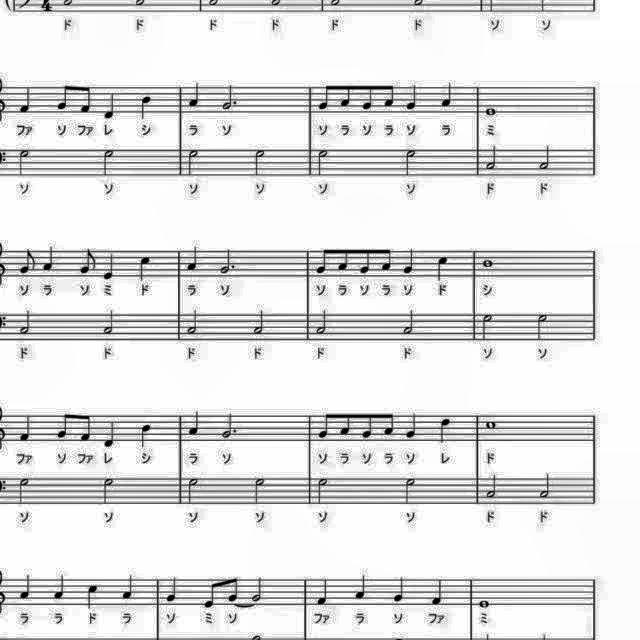Eighth-note: (77, 244, 99, 276), (317, 409, 335, 443), (18, 246, 38, 276), (358, 82, 376, 115), (55, 82, 73, 115), (358, 410, 376, 442), (55, 410, 73, 442), (316, 242, 334, 274), (223, 572, 240, 604), (338, 81, 356, 111), (338, 409, 356, 438), (356, 244, 372, 276), (78, 84, 94, 116), (318, 80, 334, 112), (78, 410, 94, 442), (203, 576, 219, 608), (336, 245, 352, 275), (381, 410, 397, 438), (382, 82, 398, 110), (380, 246, 394, 274)
Full-note: (484, 416, 501, 432), (480, 255, 498, 269), (476, 596, 494, 610), (482, 105, 500, 119)
Half-dot: (218, 410, 238, 442), (219, 82, 239, 114), (216, 245, 236, 275)
Half-note: (532, 310, 552, 342), (534, 142, 554, 174), (484, 472, 504, 503), (100, 307, 120, 337), (183, 306, 201, 338), (14, 147, 32, 179), (14, 475, 32, 507), (399, 306, 417, 338), (183, 474, 201, 506), (98, 146, 116, 178), (100, 475, 118, 507), (479, 312, 497, 344), (403, 146, 421, 178), (403, 476, 421, 508), (252, 476, 270, 508), (184, 148, 202, 180), (316, 145, 334, 177), (535, 471, 553, 502), (314, 474, 331, 506), (313, 307, 331, 337), (252, 309, 270, 339), (485, 142, 503, 172), (248, 573, 266, 603), (254, 146, 270, 178), (15, 307, 32, 337)
Quarter-note: (428, 575, 446, 609), (15, 84, 33, 118), (101, 252, 119, 284), (118, 572, 136, 604), (437, 414, 455, 446), (313, 576, 331, 608), (52, 570, 70, 602), (16, 412, 34, 444), (101, 418, 119, 450), (99, 88, 117, 120), (439, 80, 456, 112), (389, 574, 406, 606), (163, 574, 180, 606), (39, 243, 57, 273), (352, 572, 370, 602), (186, 80, 202, 112), (405, 82, 421, 114), (402, 246, 418, 278), (183, 243, 200, 273), (185, 407, 202, 437), (136, 254, 154, 282), (433, 254, 451, 282), (404, 411, 420, 442), (16, 572, 32, 602), (138, 92, 154, 120), (138, 422, 154, 450), (86, 582, 102, 610)
